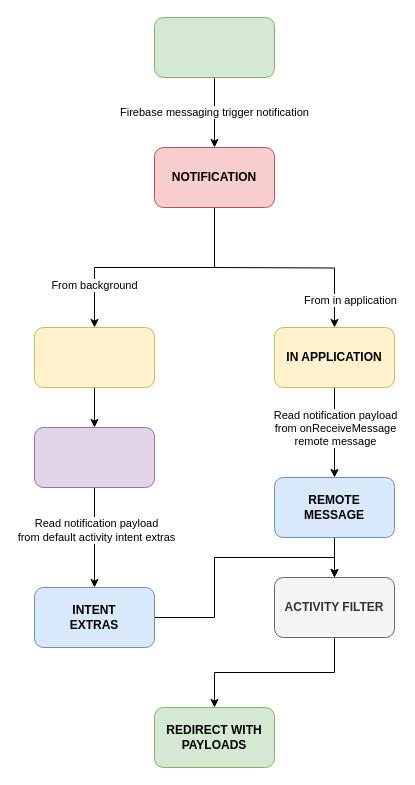
Image size: 415x785. Some labels were removed from this diagram. The shapes that lost their labels are listed below. From the top down, each one's box as (x1, y1, x2, y2) in pixels, then its label:
(154, 16, 274, 78): FCM PAYLOAD
(34, 326, 154, 388): BACKGROUND
(34, 426, 154, 488): DEFAULT ACTIVITY
